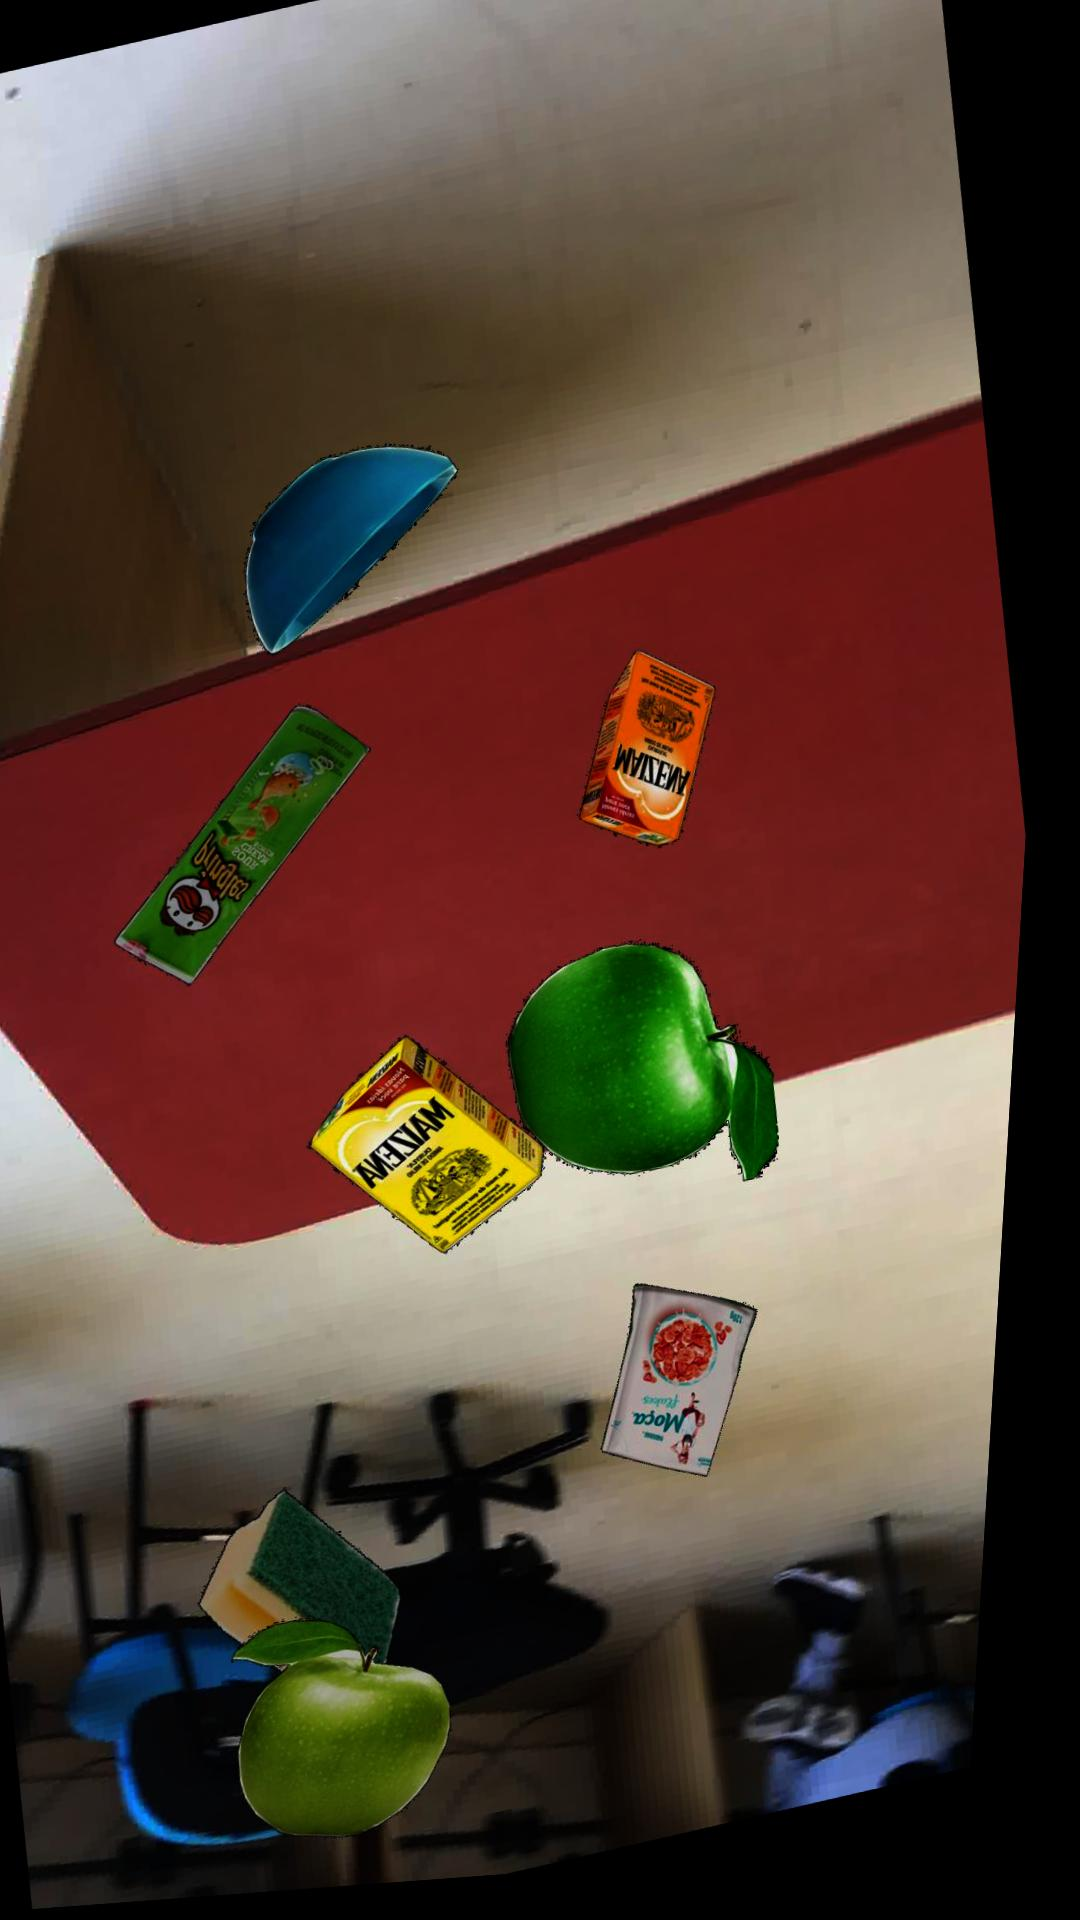bowl: (253, 451, 467, 661)
corn flakes: (621, 1296, 775, 1490)
green apple: (522, 955, 795, 1195), (255, 1626, 475, 1845)
pringles: (128, 711, 381, 990)
sponge: (220, 1497, 423, 1679)
